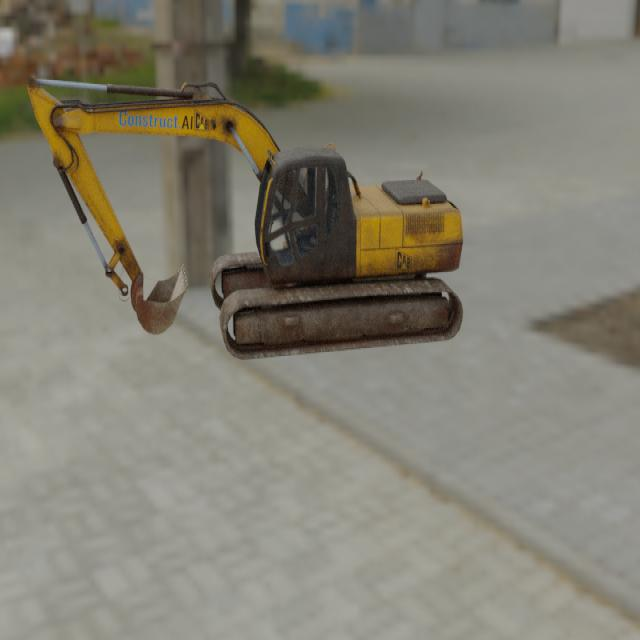excavator: (27, 73, 463, 360)
